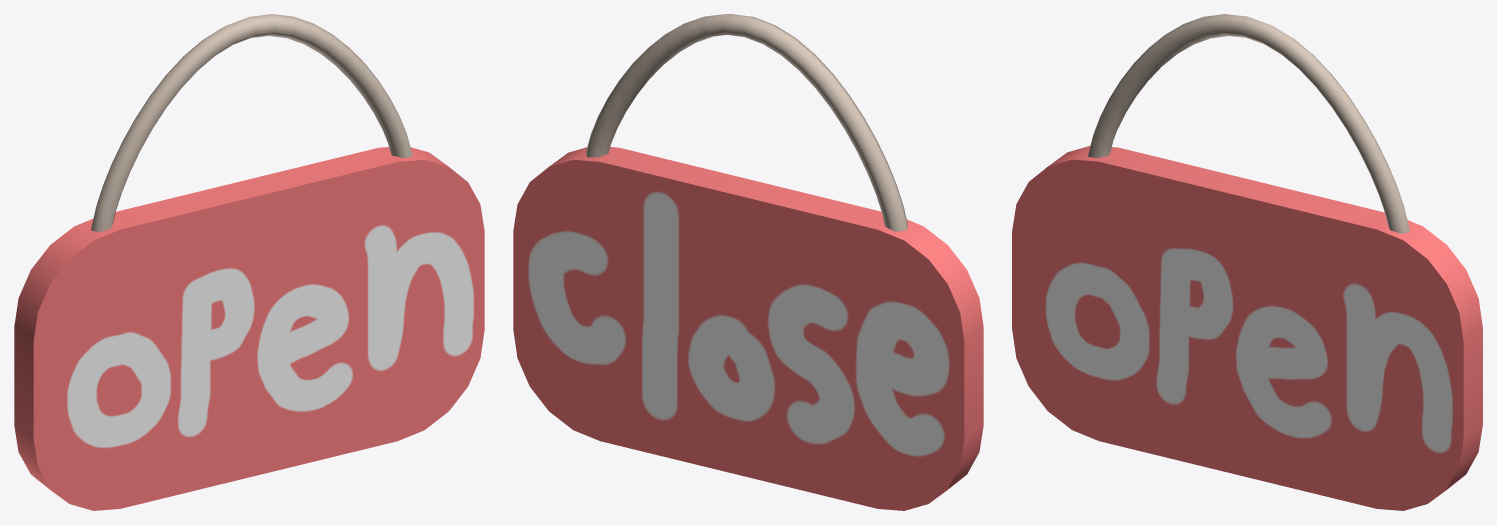
Rendered from ShopSign.fbx.
3 views of the same model, side by side, from view 1: azimuth 30°, elevation 25°; view 2: azimuth 150°, elevation 25°; view 3: azimuth 330°, elevation 25° (orthographic).
Parts seen in each view (by area): view 1: open sign.001; view 2: open sign.001; view 3: open sign.001.
Boxes of the visible parts, bbox=[...] form: open sign.001: bbox=[14, 14, 484, 510]; open sign.001: bbox=[513, 14, 983, 510]; open sign.001: bbox=[1012, 14, 1482, 510].
Bounding box in the file's own units: 66.78 × 63.8 × 4.96.
